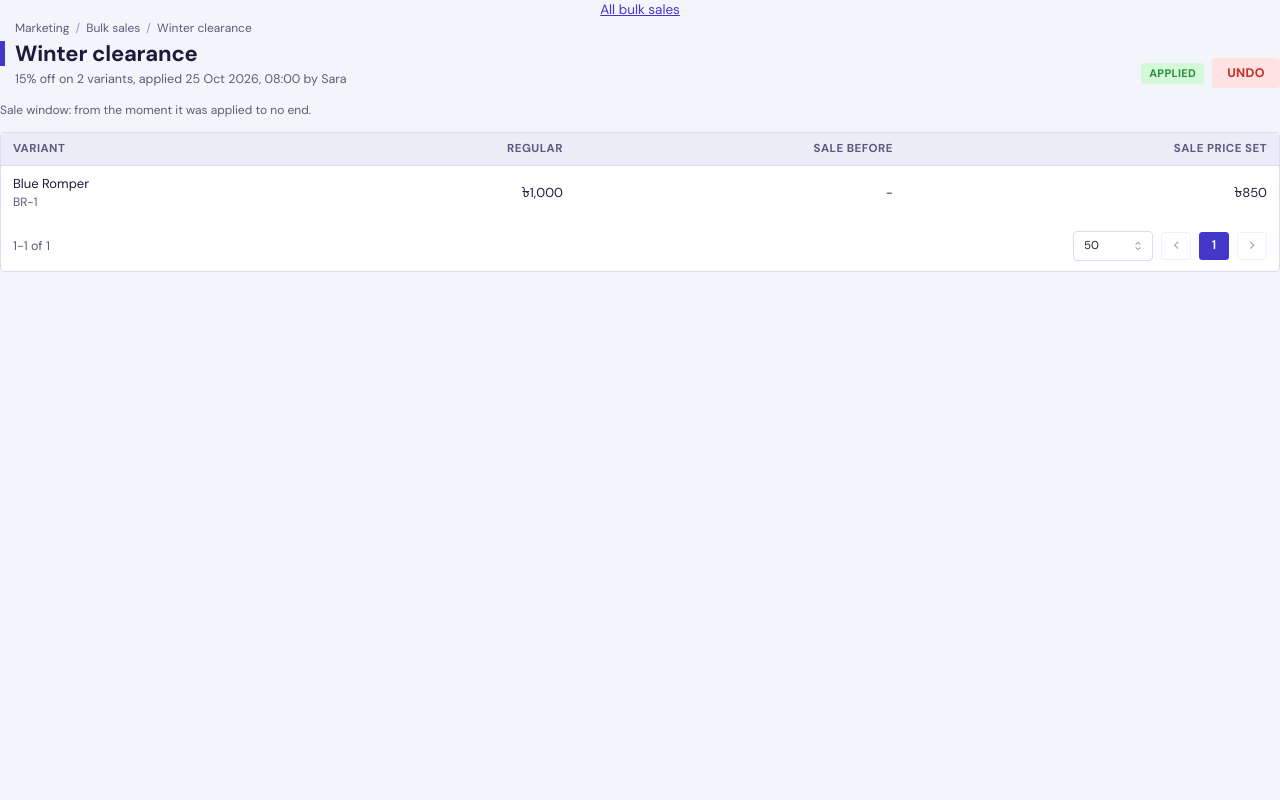
Test case: BulkSaleDetailPage › undoes after confirming and reports variants left alone
The image size is (1280, 800).
Expected: the text "Blue Romper" is shown, x1=13 y1=175 x2=89 y2=192
Click the button "Undo" at (1246,73), box x1=1212 y1=58 x2=1279 y2=88
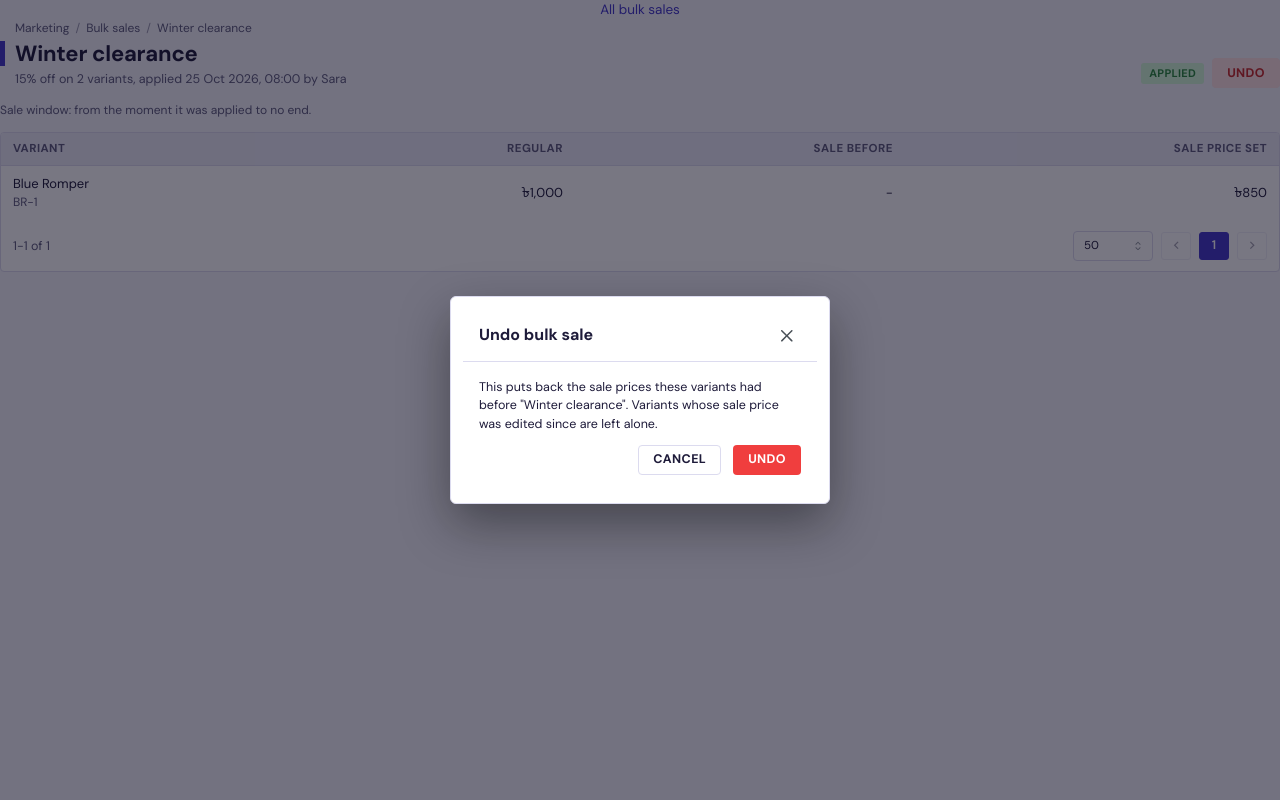
Click the button "Undo" at (767,460), box x1=733 y1=445 x2=801 y2=475
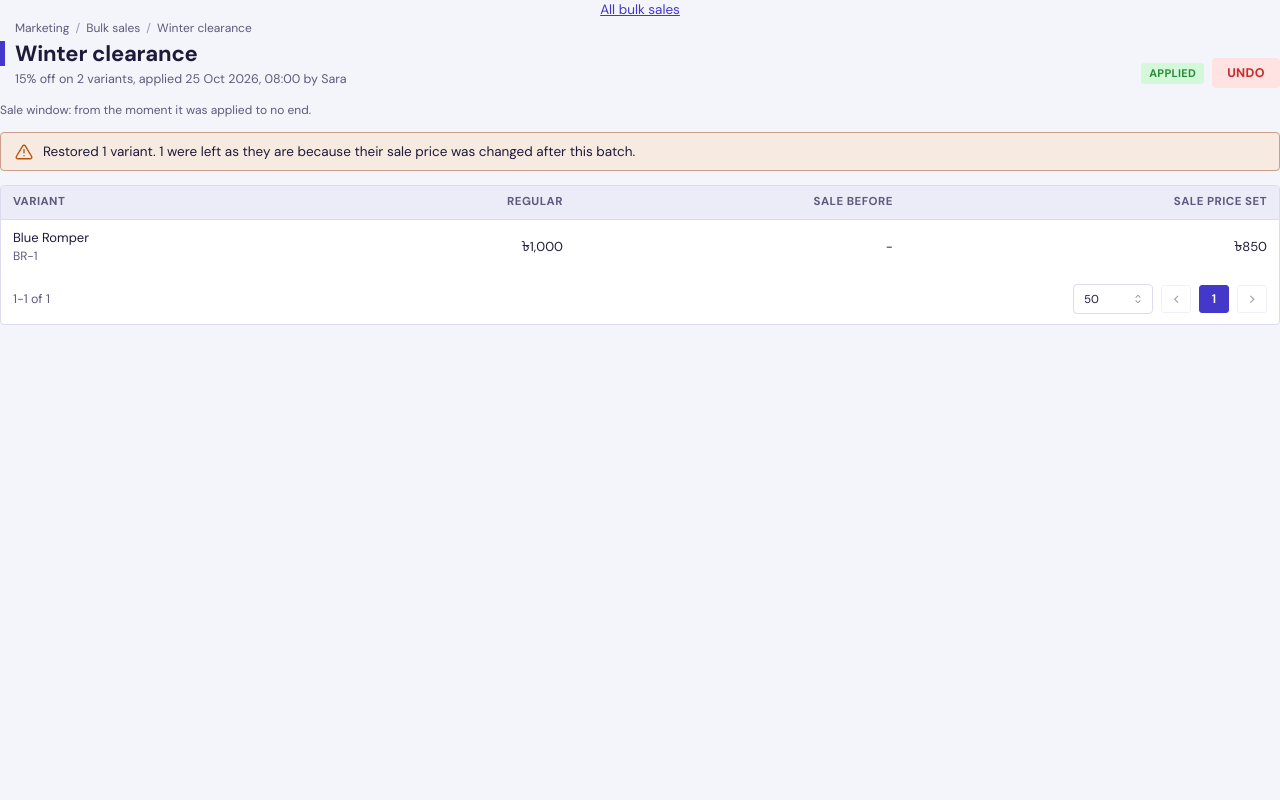
Expected: the text "1 were left as they are" is shown, x1=156 y1=143 x2=635 y2=160
